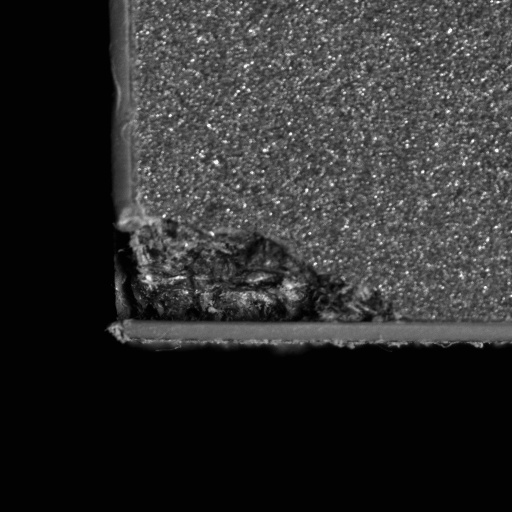bengque: (109, 236, 380, 326)
